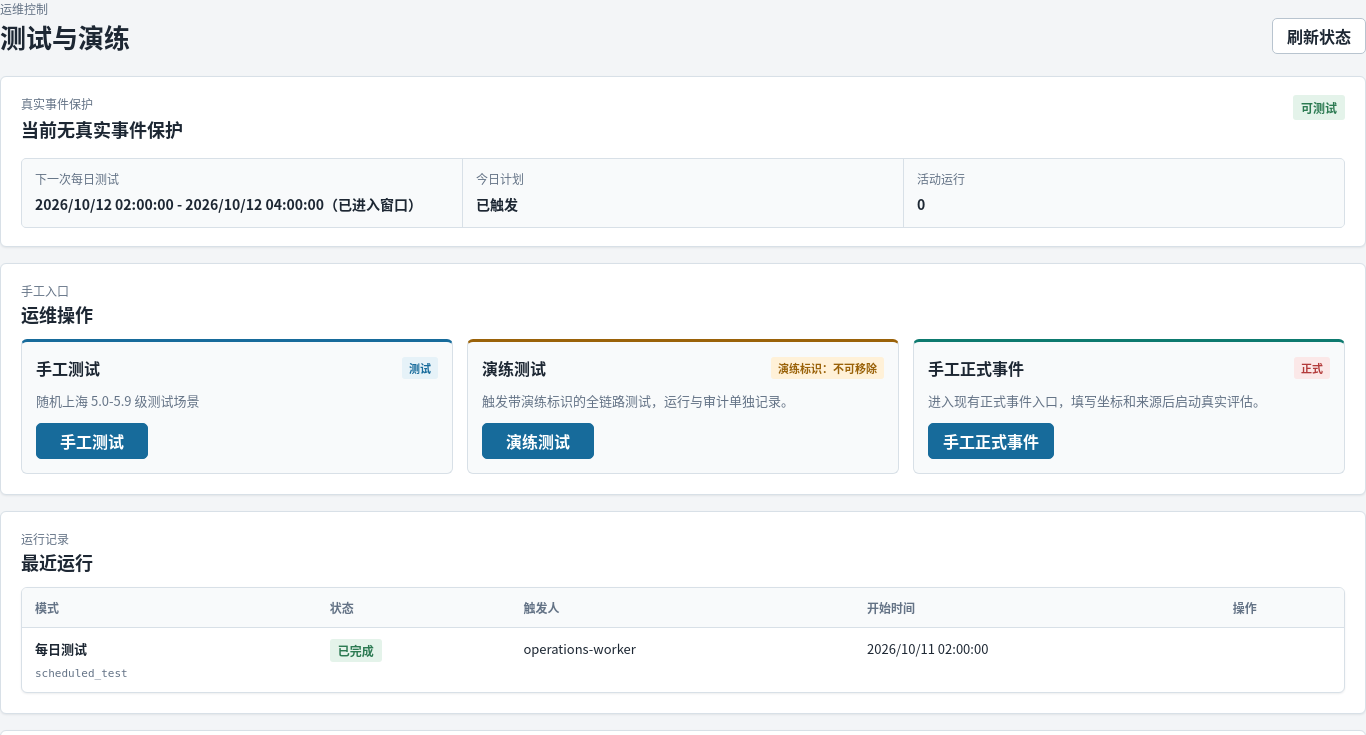
Test: generates a new idempotency key when the user clicks again
Click the button "手工测试". click: click(92, 441)
box: [36,423,148,459]
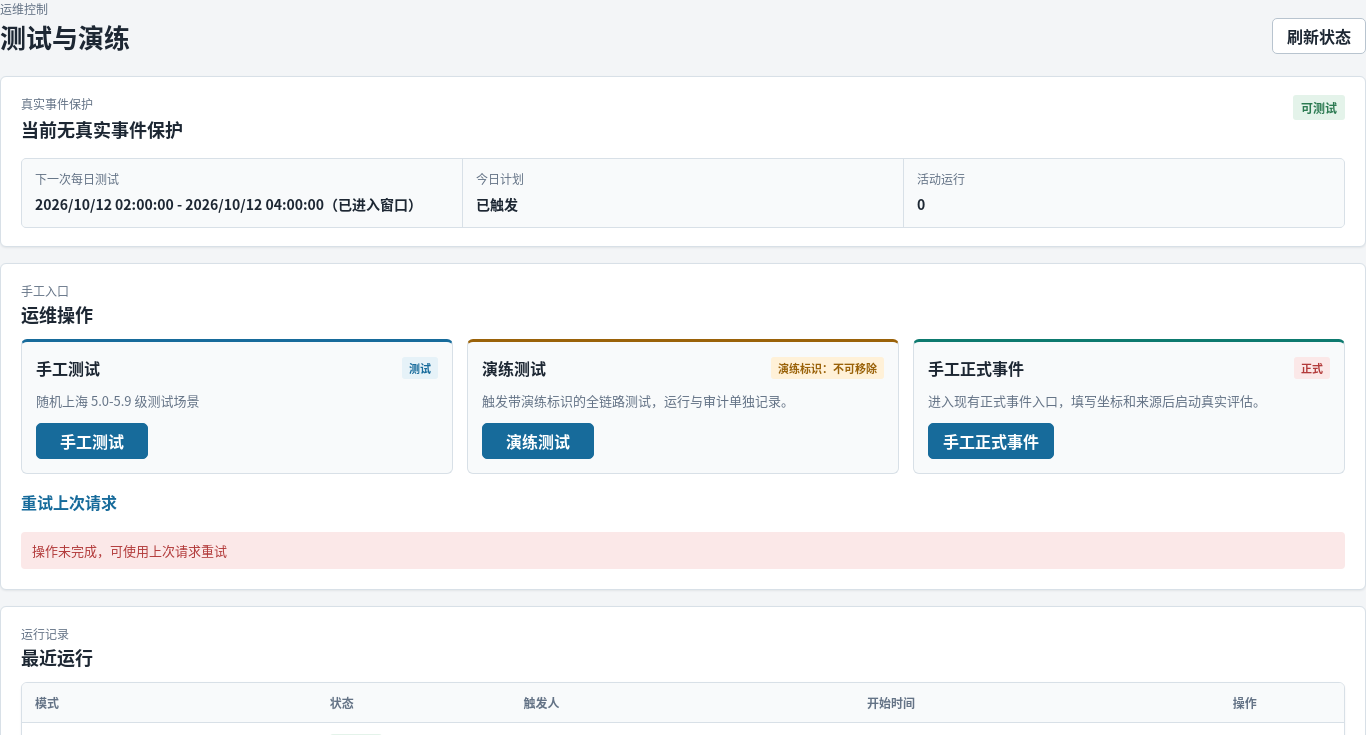
Check: the text "操作未完成，可使用上次请求重试" is shown, box [21,532,1345,569]
Click the button "手工测试". click: click(92, 441)
box: [36,423,148,459]
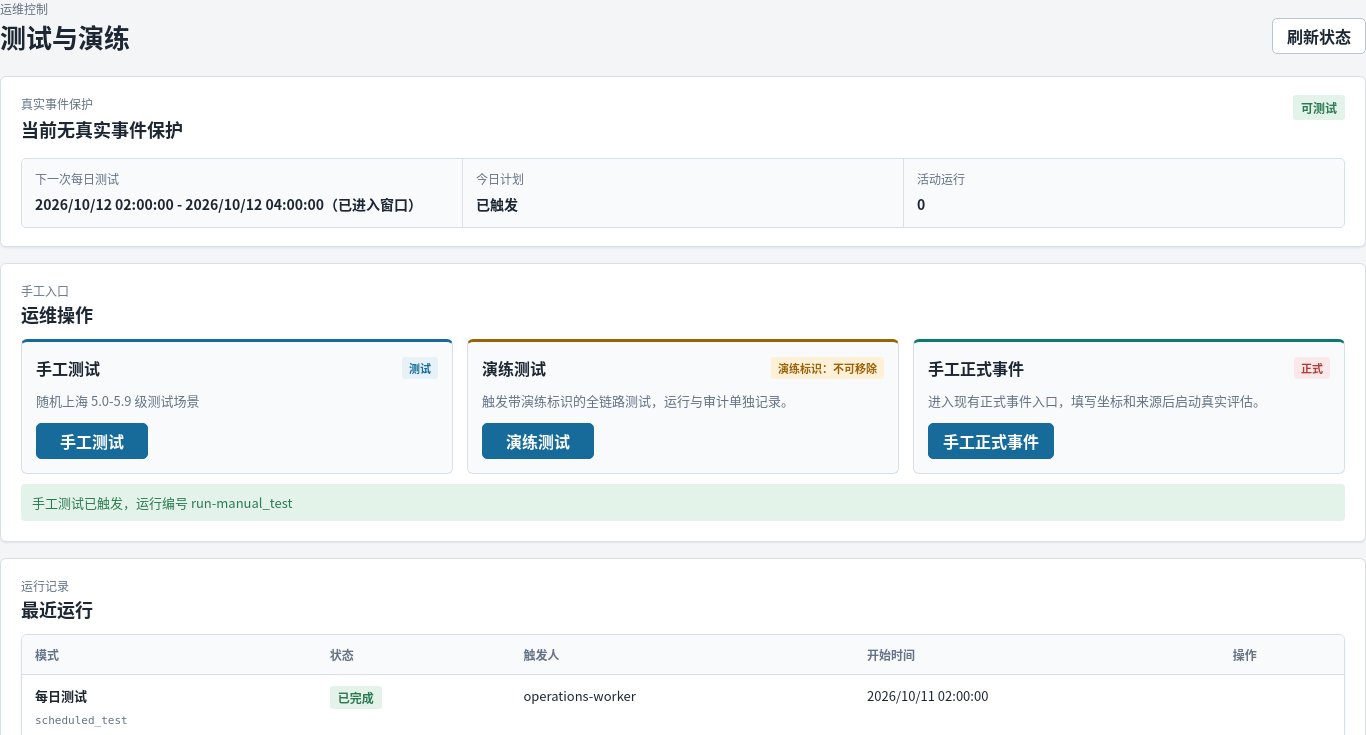
Check: the text "手工测试已触发，运行编号 run-manual_test" is shown, box [21,484,1345,521]
